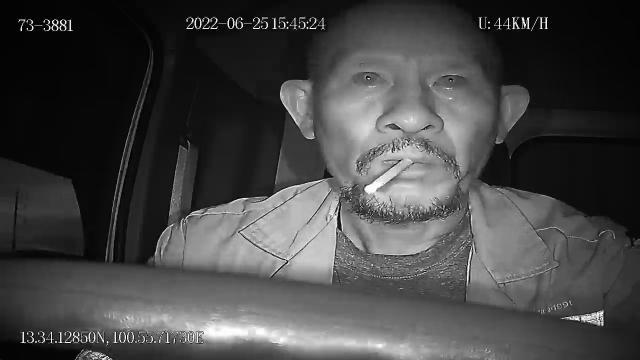SafeDriving: (418, 58, 480, 96), (343, 58, 397, 92)
Smoking: (365, 159, 413, 195)
